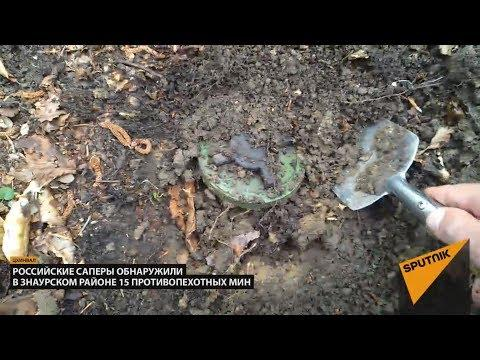pmn: (193, 106, 309, 212)
